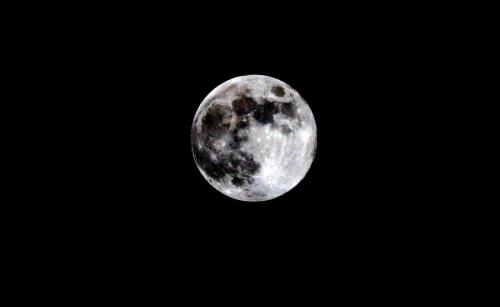moon: (189, 72, 317, 202)
